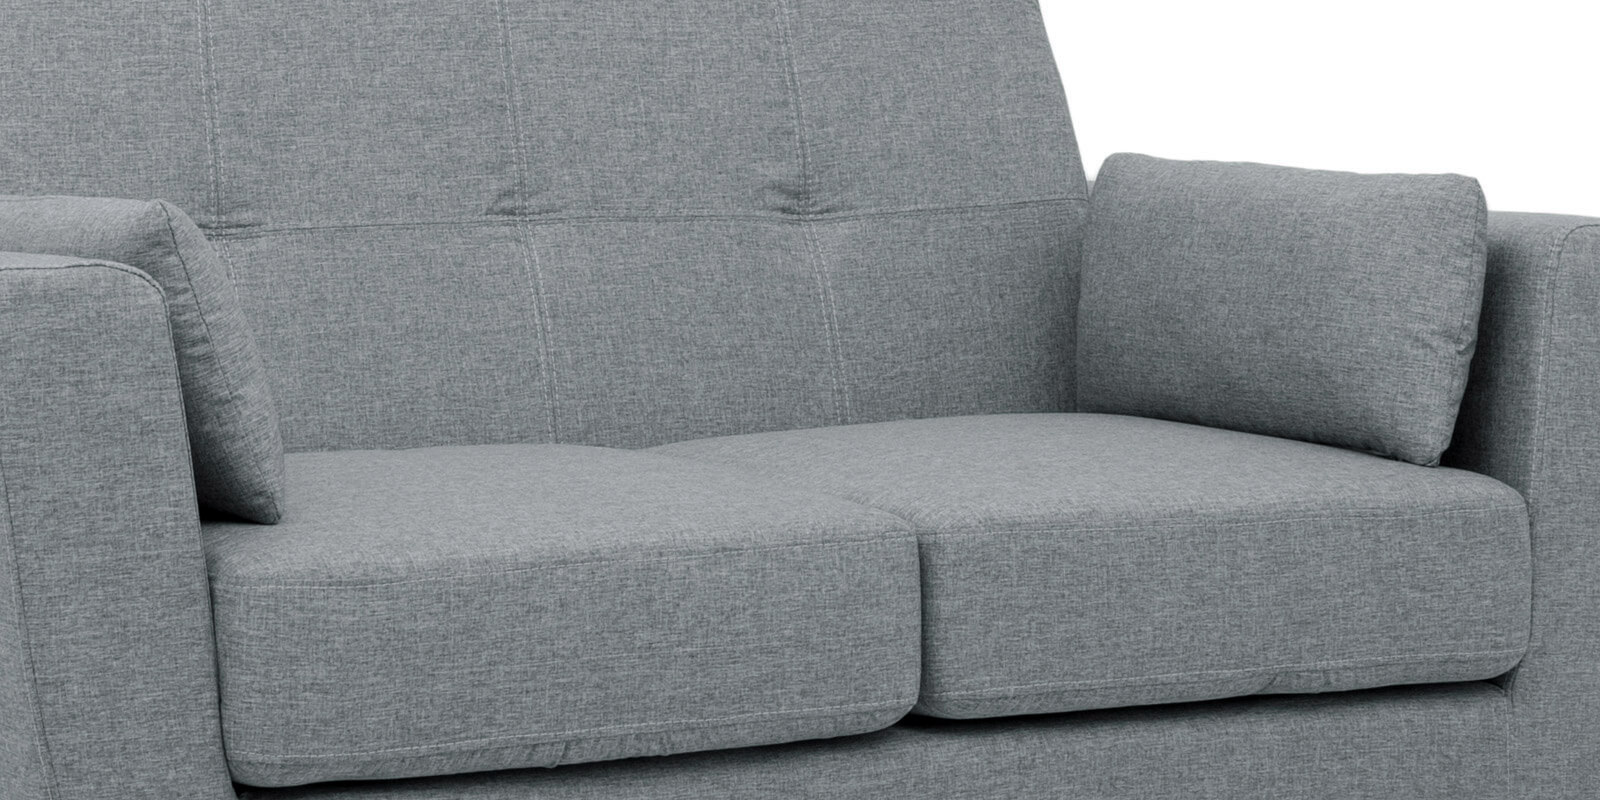Castello Three Seater Sofa in Gravel Grey Colour by CasaCraft: (6, 33, 1600, 767)
